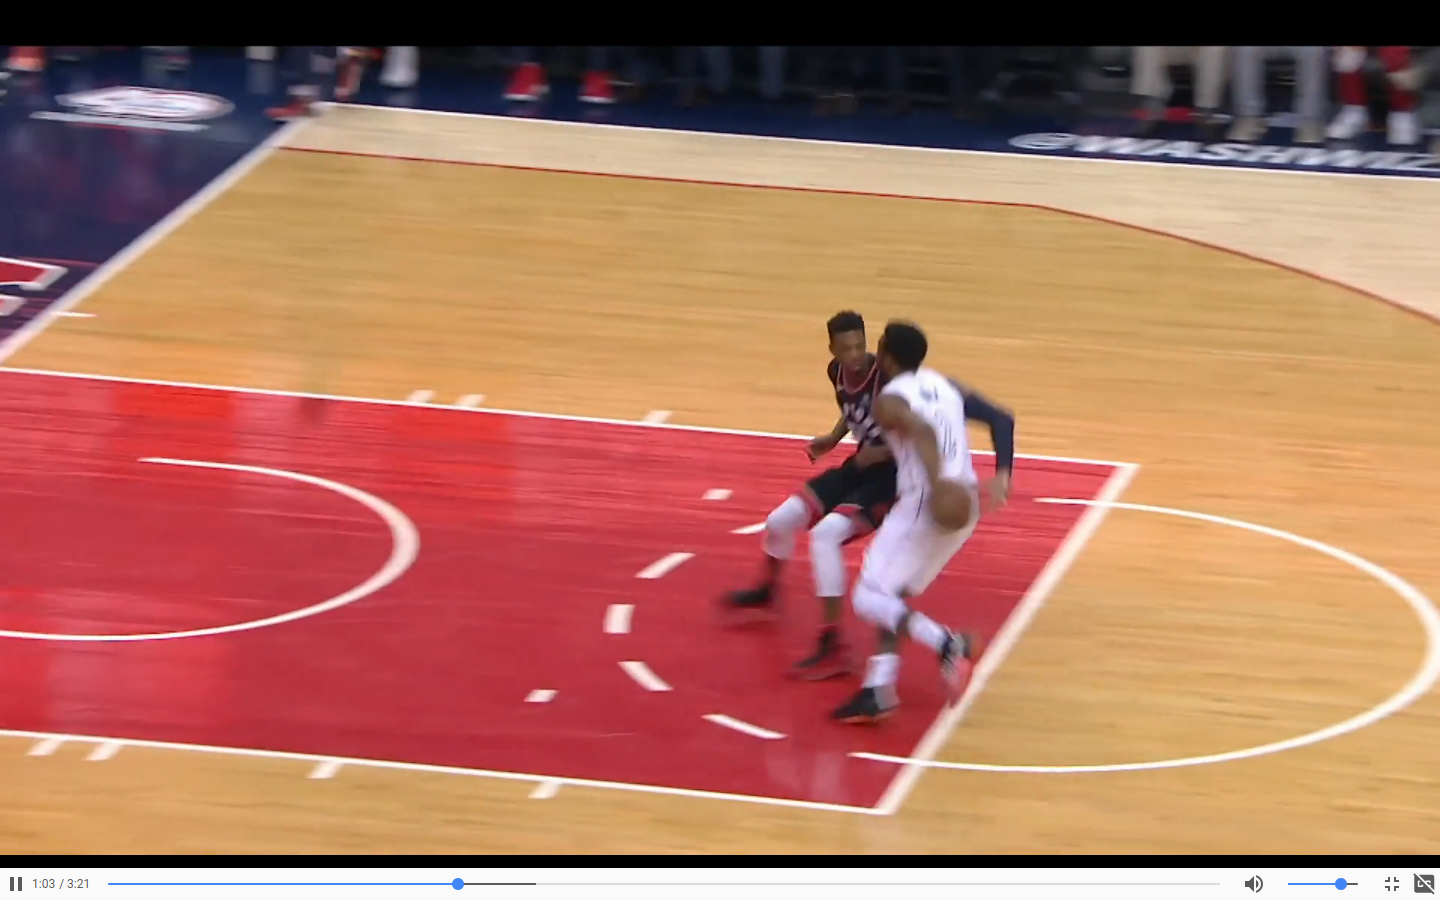basketball: (922, 476, 979, 537)
basketball player: (844, 314, 1016, 722), (728, 306, 892, 682)
